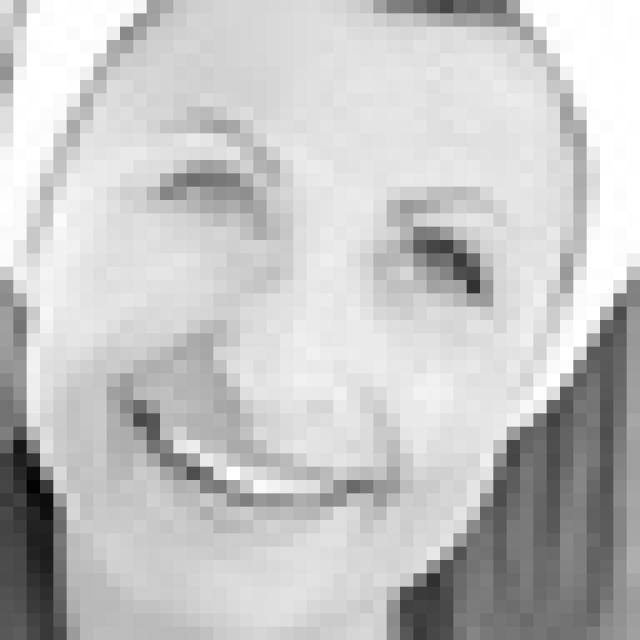happy: (113, 104, 530, 546)
